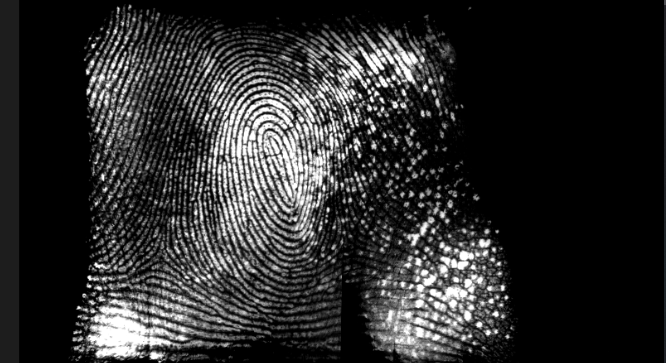deltas: (140, 236, 182, 287), (326, 224, 370, 266)
nucleo: (256, 122, 291, 182)
